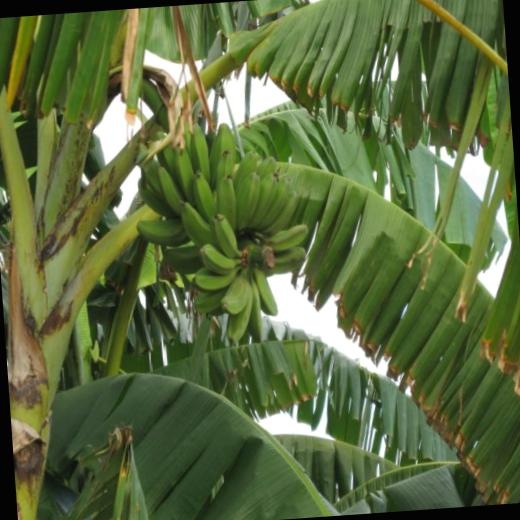Banana: (130, 102, 318, 353), (218, 271, 248, 317)
